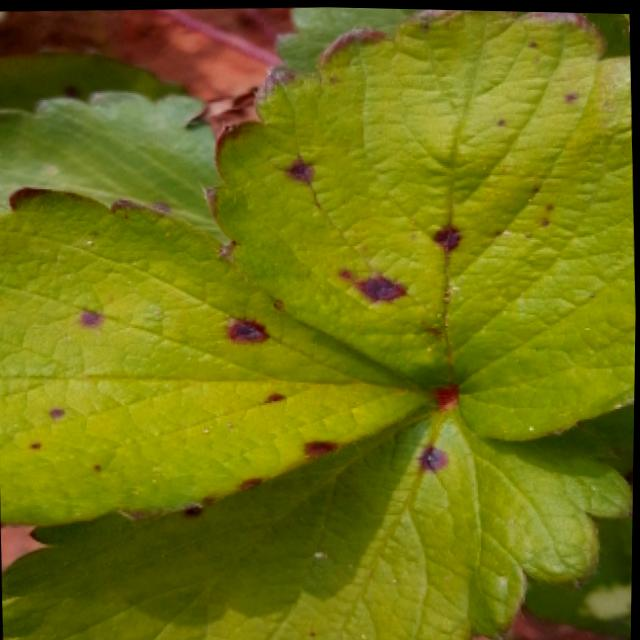Leaf Spot: (202, 7, 636, 442), (2, 391, 634, 640), (0, 184, 446, 530), (0, 45, 194, 111)
